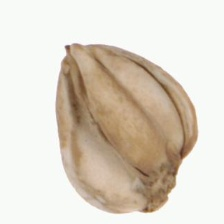L1: (138, 159, 180, 213), (55, 41, 95, 89)
L2: (56, 42, 198, 215)
